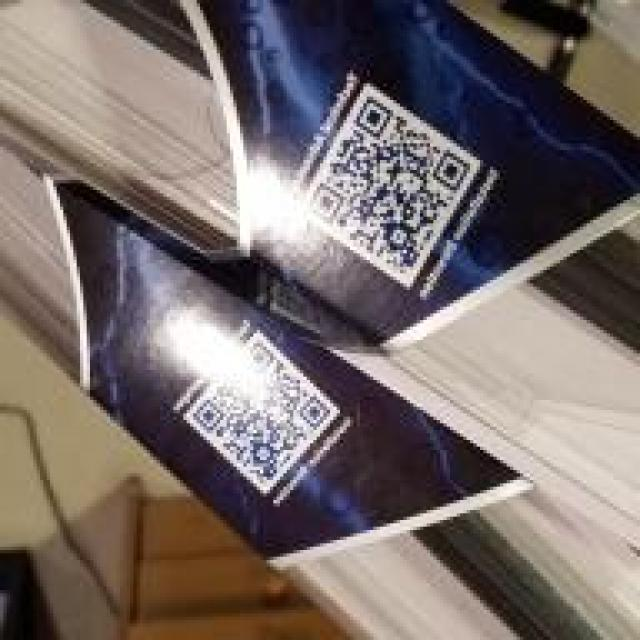QR_CODE: (287, 86, 485, 296), (190, 328, 340, 504)
